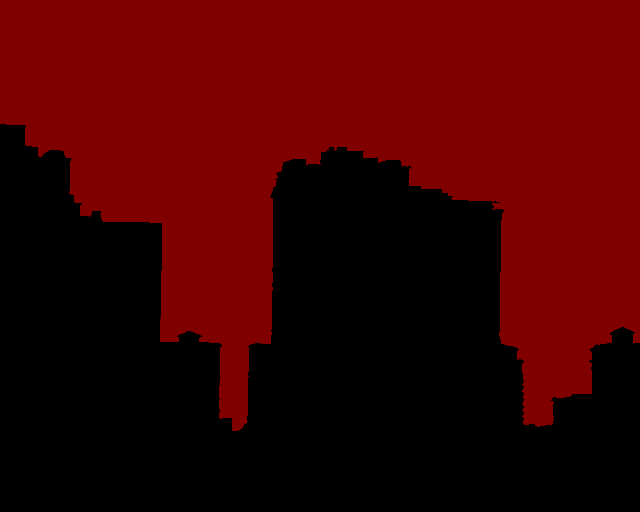Sky: (1, 1, 639, 430)
